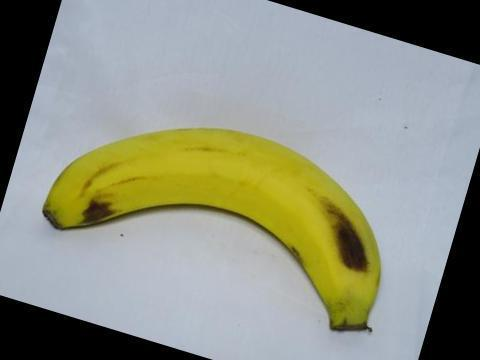freshripe: (18, 116, 391, 343)
